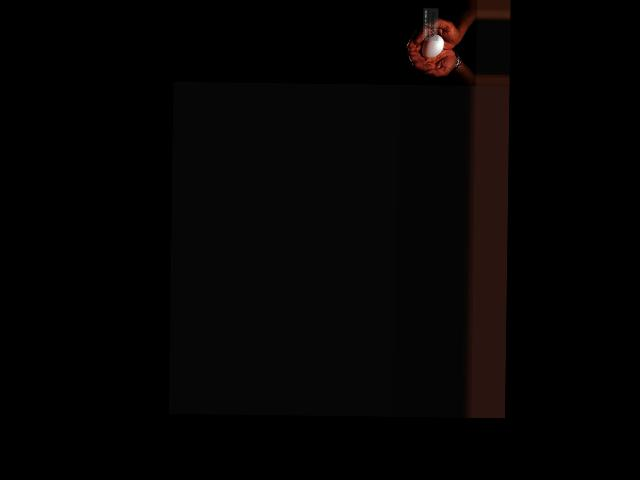egg: (420, 34, 443, 58)
